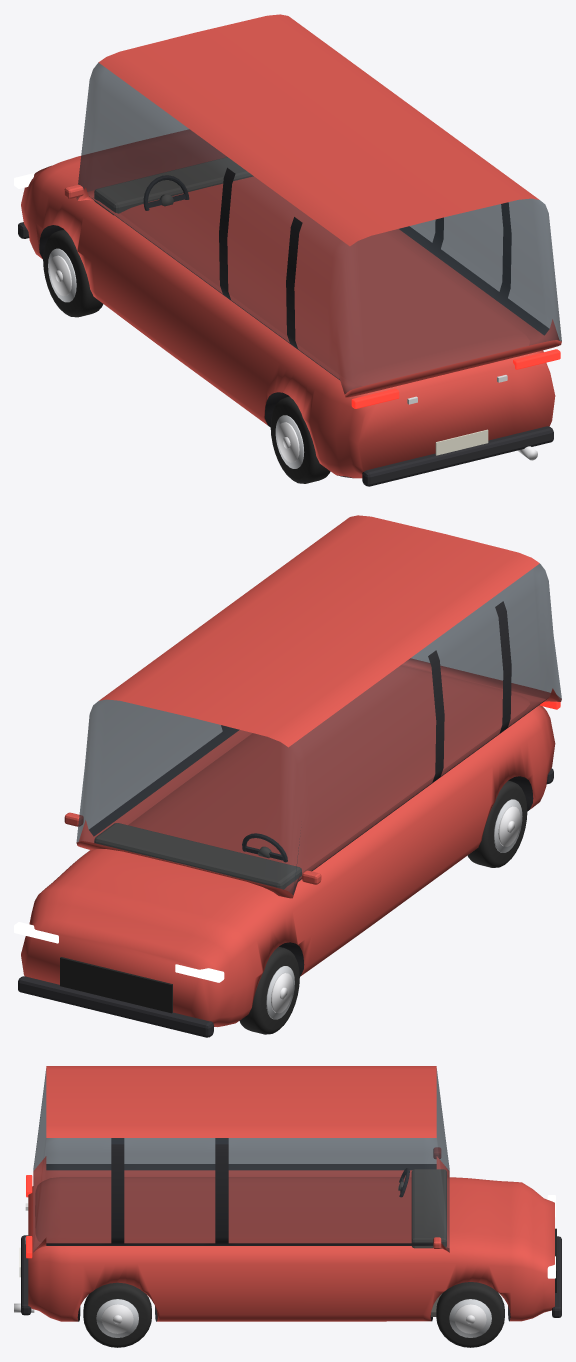
File: t_van.glb
The picture shows the model from 3 angles, top to bottom: view 1: azimuth 30°, elevation 25°; view 2: azimuth 150°, elevation 25°; view 3: azimuth 270°, elevation 25°; orthographic projection. The views are drawn at different scales.
Parts seen in each view (by area): view 1: Body.011, Glass.011, Interior.011, Wheel_FL.011, Wheel_RL.011, Lights_Tail.011, SteeringWheel.011; view 2: Body.011, Glass.011, Interior.011, Wheel_FL.011, Wheel_RL.011, Lights_Head.011; view 3: Body.011, Glass.011, Wheel_FR.011, Wheel_RR.011, Interior.011.
Part boxes in pixels (<box>): Body.011: <box>18,14,561,486</box>; Glass.011: <box>76,62,561,393</box>; Interior.011: <box>94,157,253,215</box>; Wheel_FL.011: <box>43,229,103,317</box>; Wheel_RL.011: <box>270,396,330,483</box>; Lights_Tail.011: <box>351,349,560,408</box>; SteeringWheel.011: <box>143,175,189,210</box>; Body.011: <box>18,515,561,1037</box>; Glass.011: <box>76,563,561,895</box>; Interior.011: <box>94,823,301,889</box>; Wheel_FL.011: <box>239,946,299,1034</box>; Wheel_RL.011: <box>467,780,527,867</box>; Lights_Head.011: <box>14,922,224,982</box>; Body.011: <box>14,1066,561,1321</box>; Glass.011: <box>33,1068,449,1252</box>; Wheel_FR.011: <box>436,1282,504,1347</box>; Wheel_RR.011: <box>83,1282,151,1347</box>; Interior.011: <box>411,1169,446,1316</box>.
Size of the model in its own units: 2.24 by 2.3 by 5.41.
